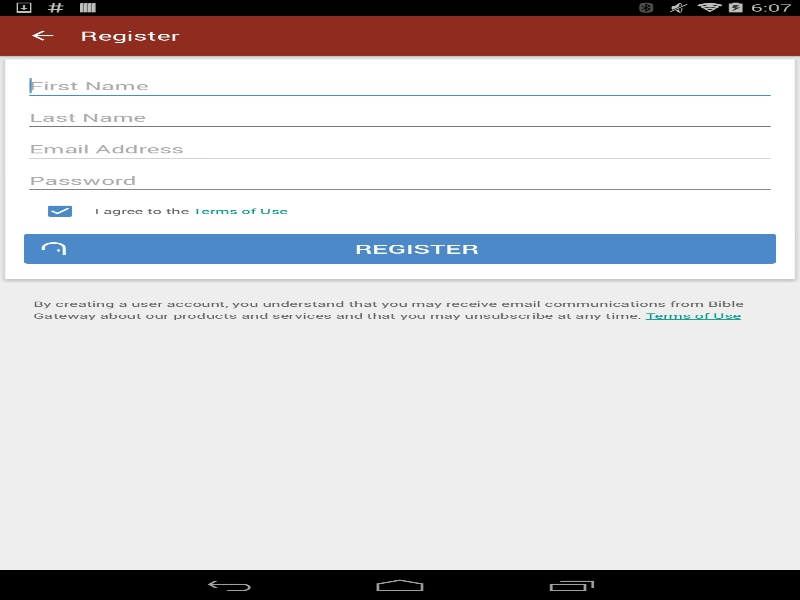Button: (24, 233, 776, 263), (0, 18, 74, 53)
Input: (24, 71, 776, 100), (24, 166, 776, 195), (24, 103, 776, 131), (24, 135, 776, 163)
